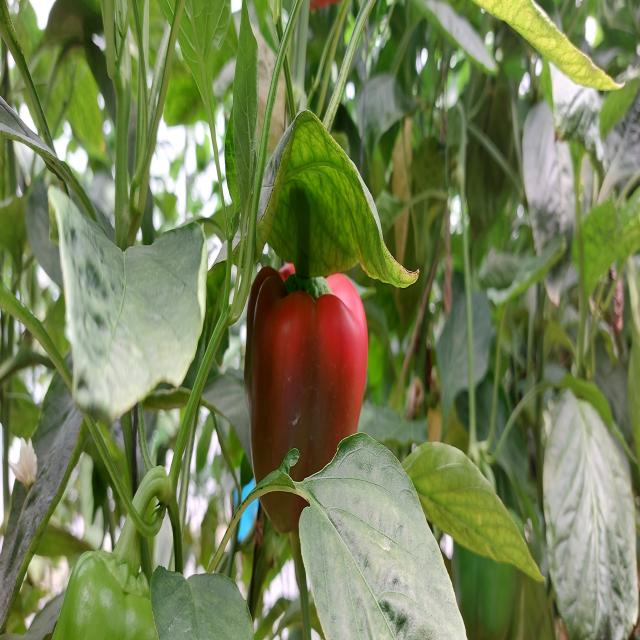Red-Ready-to-Harvest: (248, 272, 360, 546)
